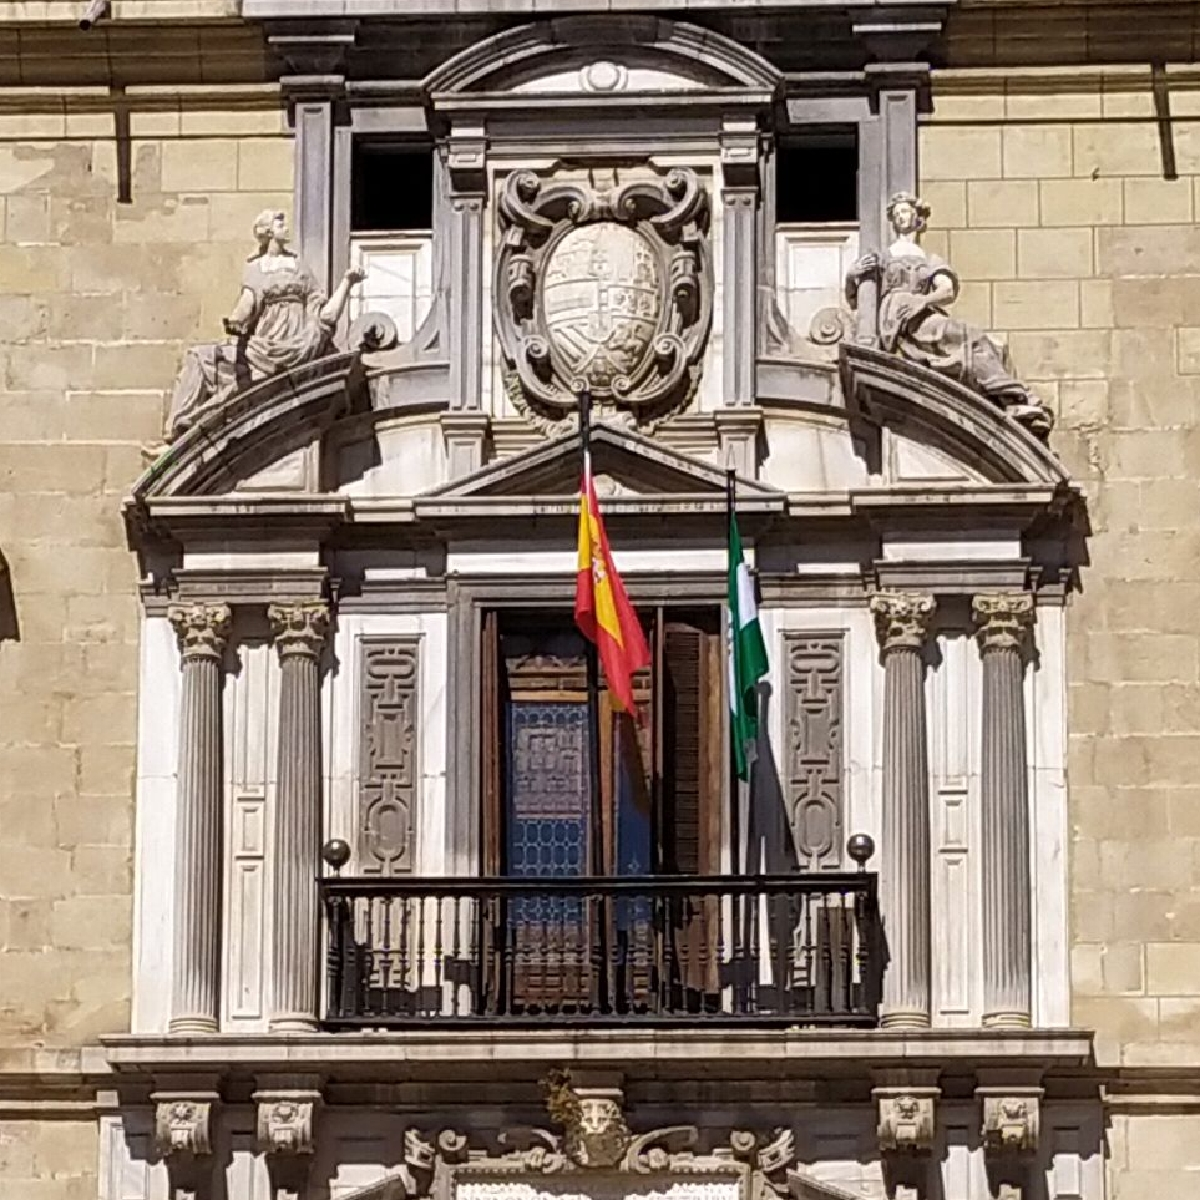fronton: (420, 414, 775, 520)
fronton-curvo: (416, 20, 796, 127)
fronton-partido: (142, 333, 1073, 541)
vano-adintelado: (441, 536, 741, 1024)
